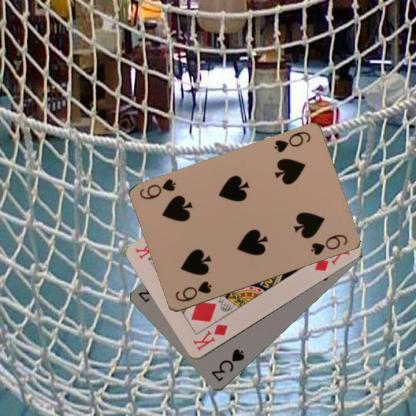3s: (209, 346, 246, 384)
6s: (172, 278, 213, 303), (271, 130, 312, 154)
Kd: (191, 322, 228, 352)
